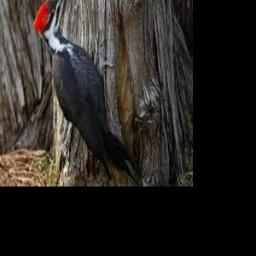Woodpecker: (32, 0, 138, 184)
